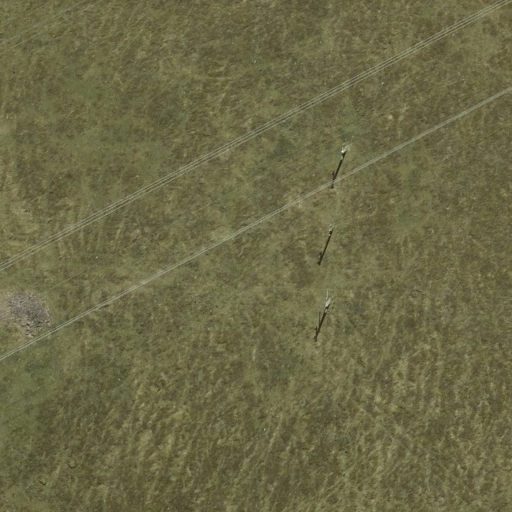DT: (316, 288, 338, 316), (333, 141, 355, 163), (323, 218, 338, 240)
